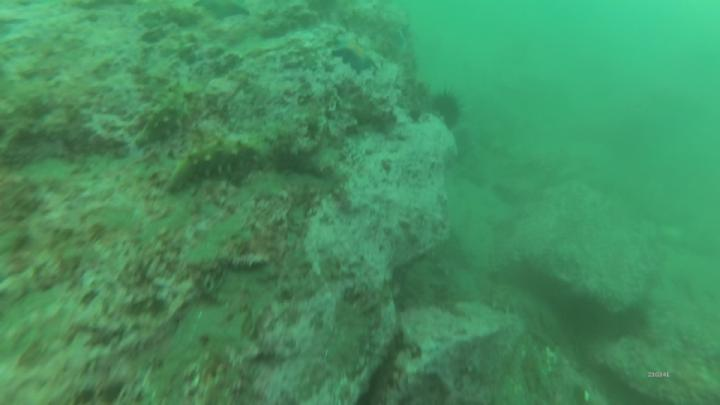echinus: (434, 95, 462, 129)
holothurian: (166, 136, 271, 187), (133, 84, 189, 143)
starfish: (332, 36, 376, 71), (198, 1, 249, 23)
